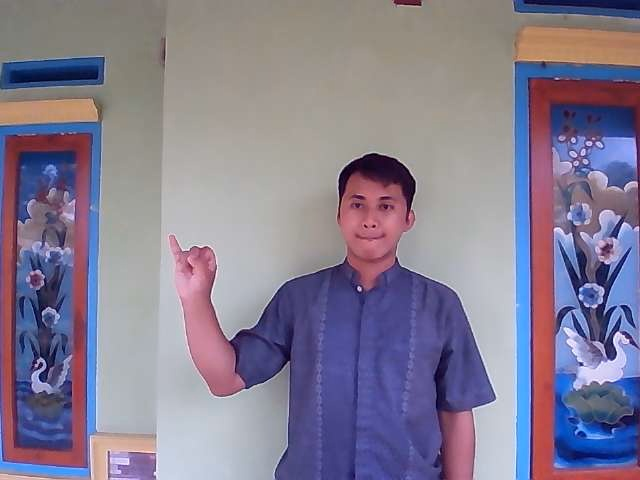I: (163, 230, 226, 311)
